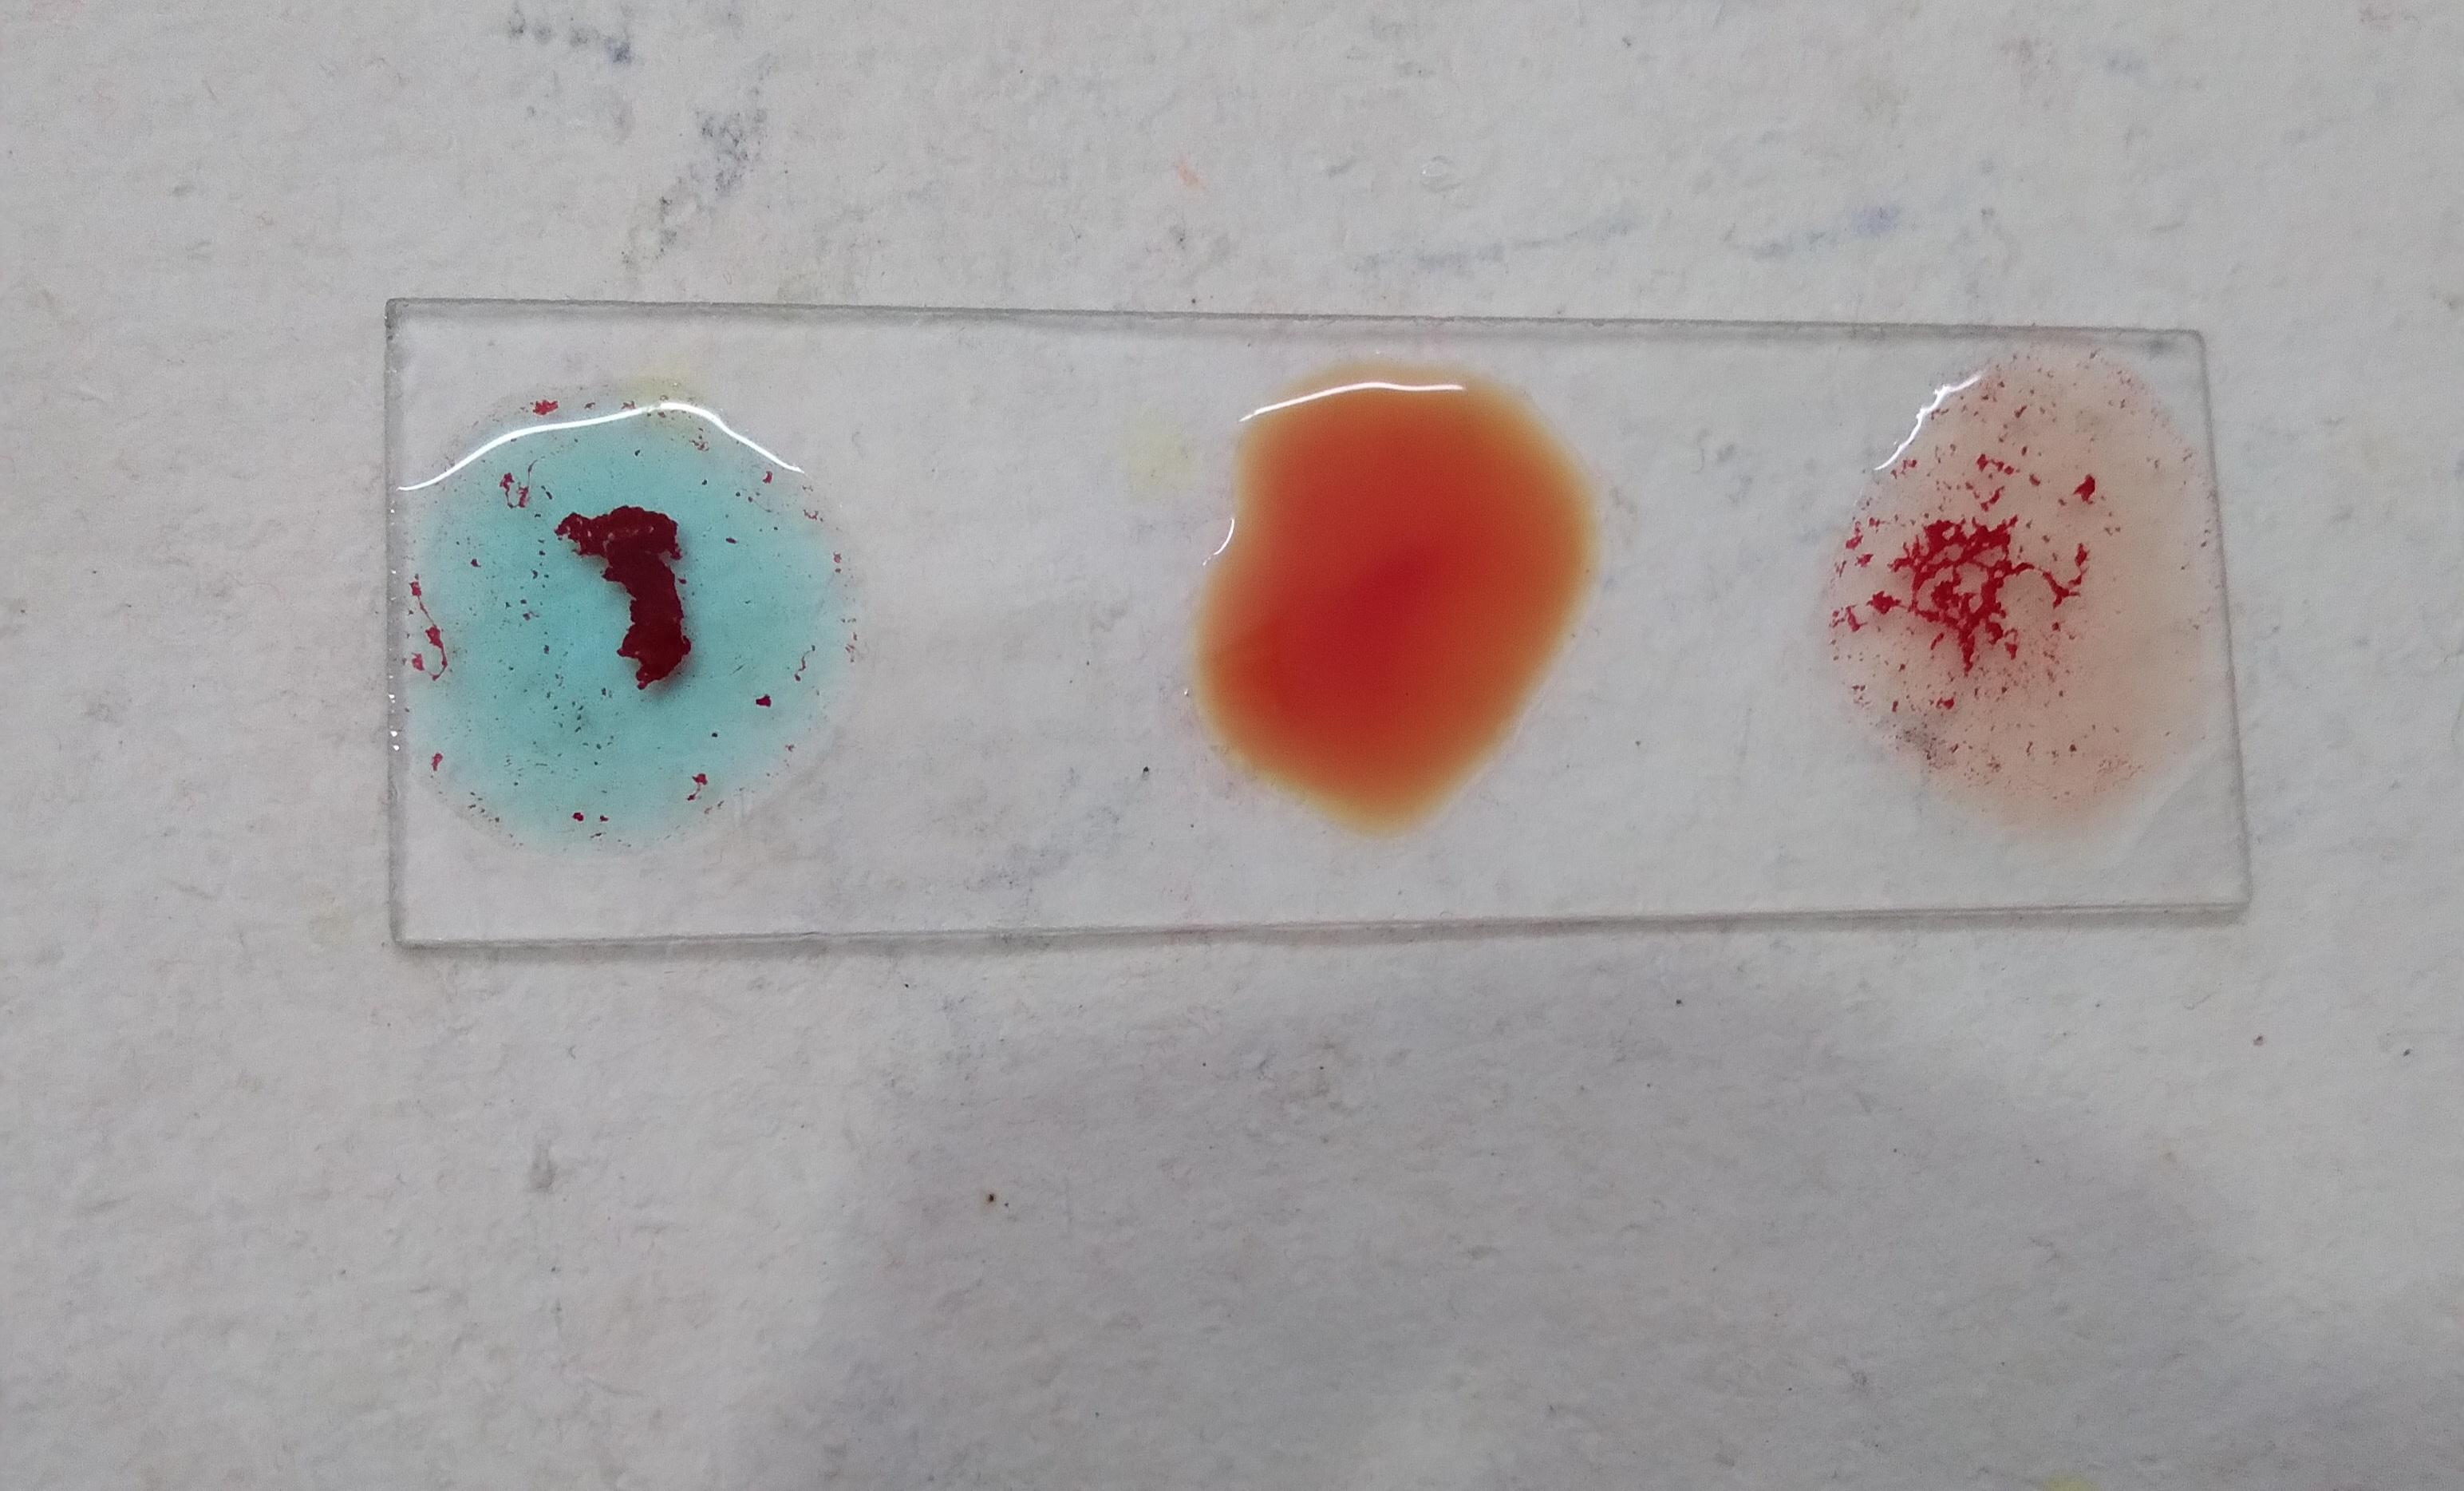A: (412, 377, 848, 848)
D: (1839, 384, 2221, 817)
